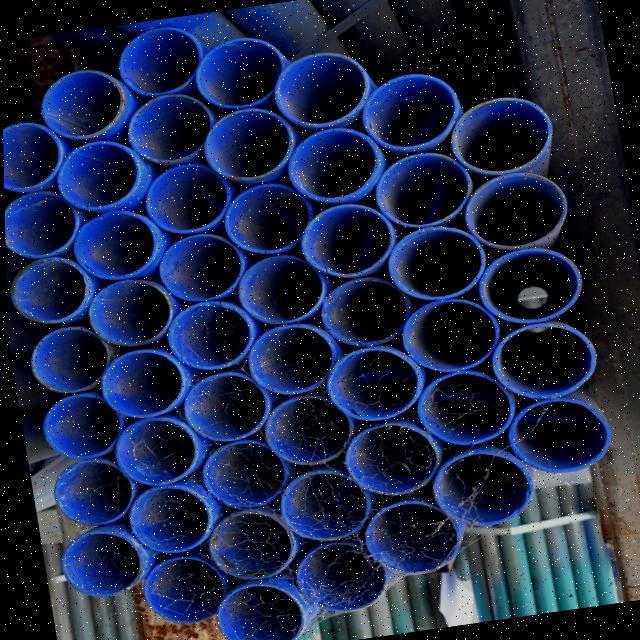pipe: (452, 162, 576, 260), (440, 88, 566, 184), (480, 312, 602, 409), (351, 64, 473, 160), (467, 240, 591, 333), (497, 389, 619, 483), (334, 412, 450, 508), (363, 144, 482, 235), (379, 216, 493, 310), (390, 292, 507, 381), (316, 338, 429, 430), (264, 45, 378, 136), (408, 362, 518, 456), (422, 444, 536, 534), (192, 501, 307, 590), (352, 492, 464, 583), (28, 62, 136, 154), (289, 196, 400, 284), (270, 462, 378, 552), (64, 200, 172, 290), (193, 100, 302, 188), (310, 270, 418, 358), (253, 389, 362, 476), (280, 125, 388, 212), (286, 534, 393, 621), (149, 225, 256, 312), (214, 175, 320, 262), (172, 364, 278, 451), (238, 316, 345, 402), (115, 84, 222, 170), (158, 292, 264, 378), (186, 30, 294, 114), (88, 343, 196, 427), (47, 134, 155, 218), (116, 476, 220, 563), (49, 522, 153, 608), (106, 20, 212, 104), (102, 410, 206, 494), (134, 547, 232, 636), (136, 157, 240, 240), (78, 272, 180, 356), (18, 318, 122, 400), (191, 435, 295, 516), (232, 249, 332, 331), (31, 386, 133, 466), (46, 454, 145, 533), (4, 250, 98, 332), (4, 183, 90, 265), (204, 575, 312, 640), (2, 112, 72, 200)
